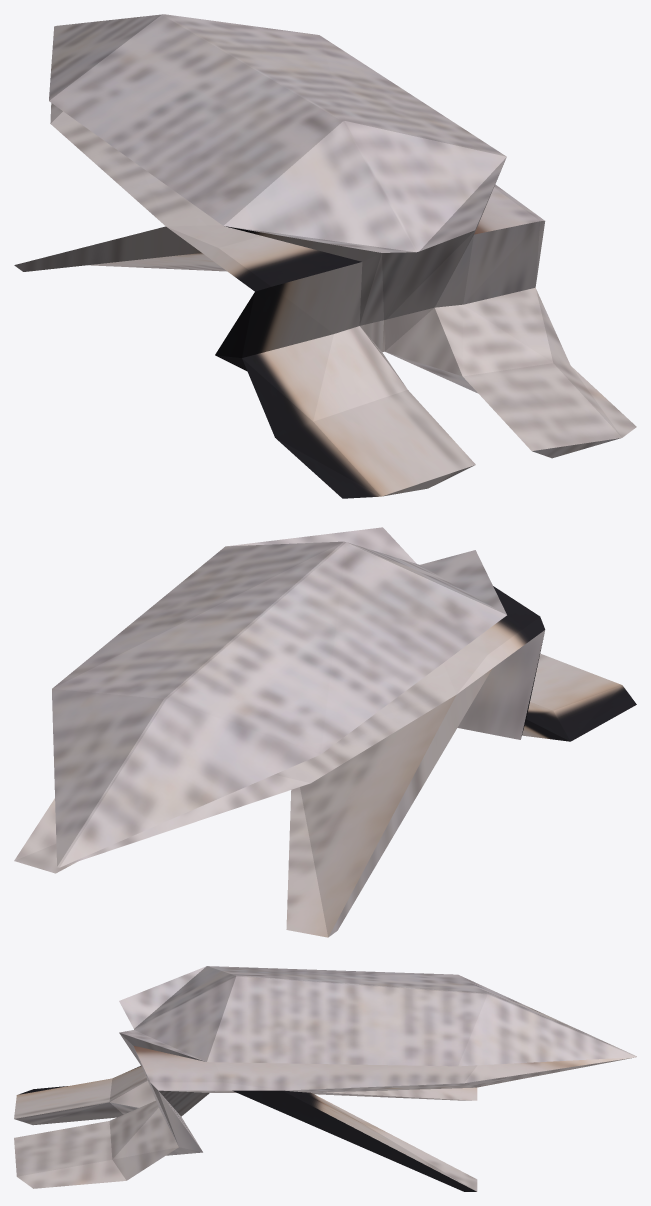
Rendered from FrogWalk.FBX.
3 renders of one model, top to bottom at view 1: azimuth 30°, elevation 25°; view 2: azimuth 150°, elevation 25°; view 3: azimuth 270°, elevation 25°, orthographic. The views are drawn at different scales.
Parts seen in each view (by area): view 1: Plane003; view 2: Plane003; view 3: Plane003.
Boxes of the visible parts, box(x1,y1,x2,y2) form: Plane003: box(14, 14, 636, 498); Plane003: box(14, 527, 636, 937); Plane003: box(14, 966, 636, 1191).
Bounding box in the file's own units: 5.54 × 4.1 × 13.62.
1 material, 1 textured.
